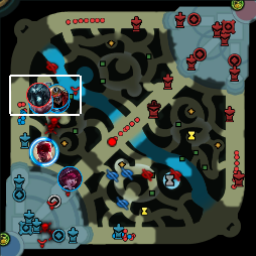karthus: (25, 82, 51, 106)
leesin: (30, 139, 57, 163)
xayah: (56, 165, 82, 192)
zed: (45, 83, 69, 108)
